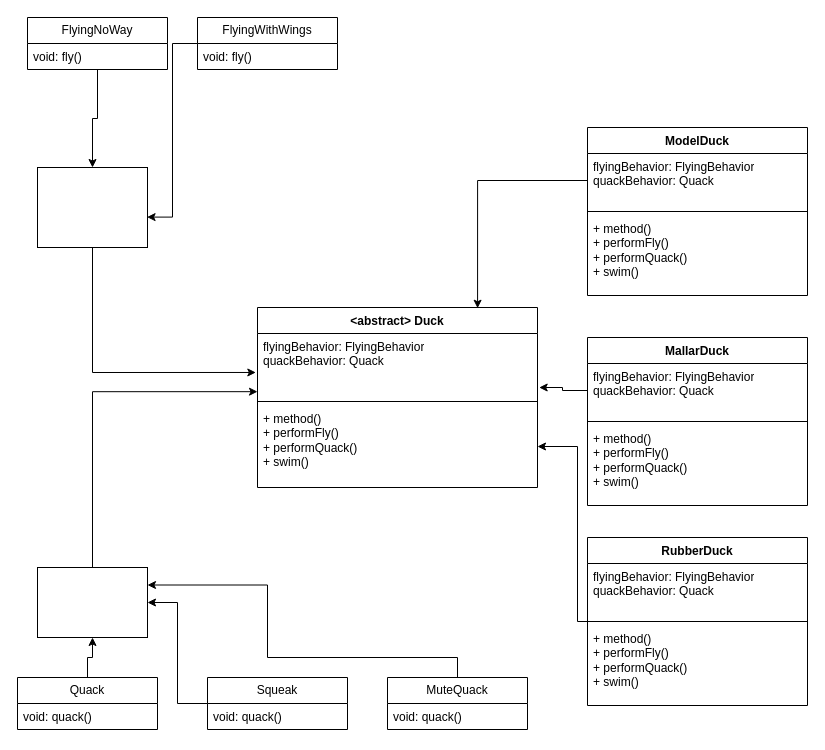
This 825x750 diagram has some shape labels left out. Each missing label, with the centre of its shape:
"«interface» FlyingBehavior void: fly()" goes at (x=92, y=207).
"«interface» QuackBehavior void: quack()" goes at (x=92, y=602).
